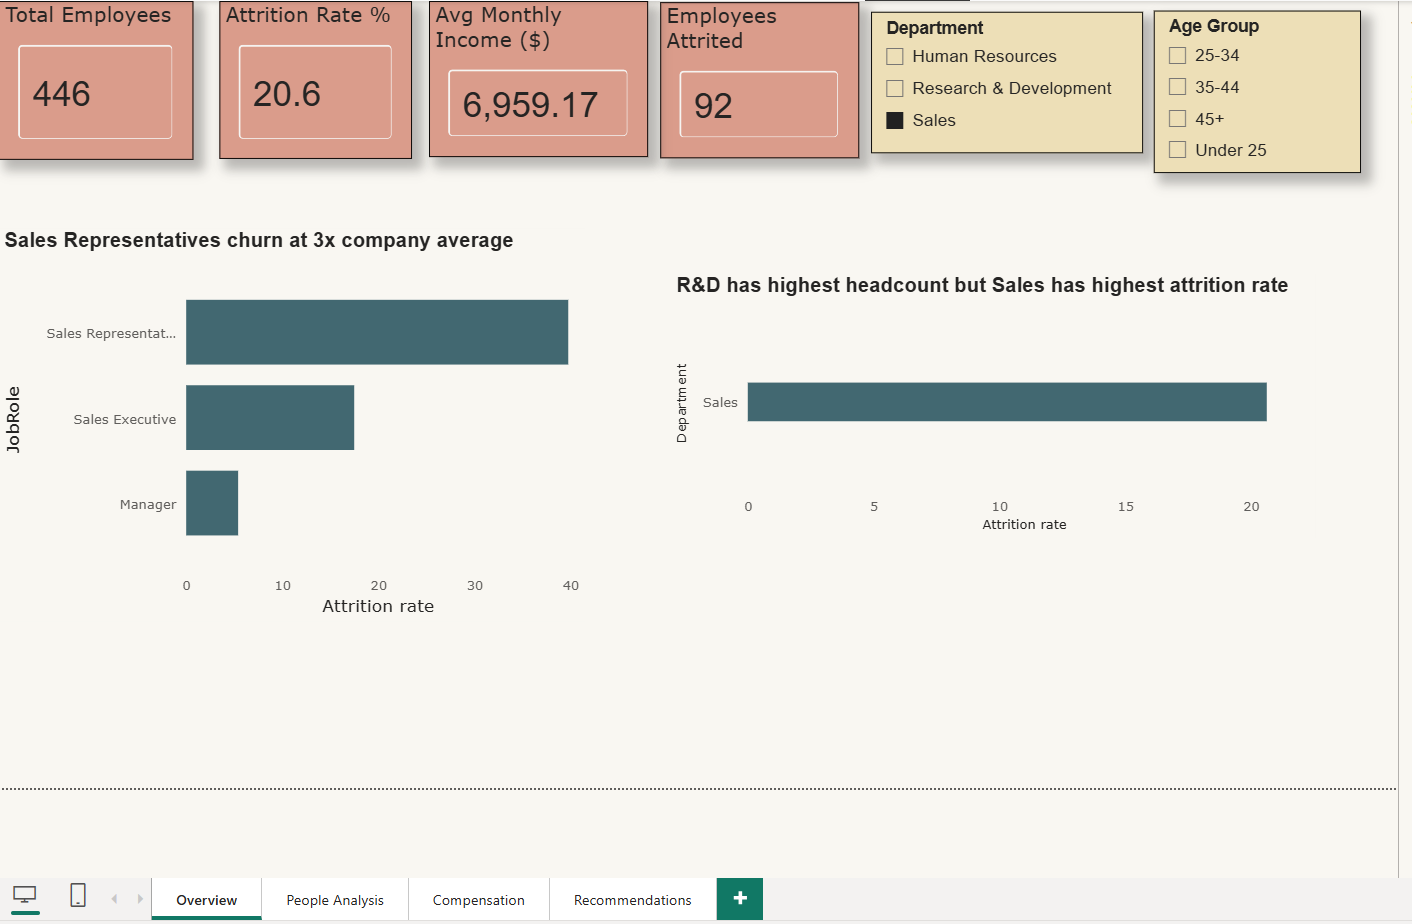

This screenshot's page, from the dashboard's own definition file:
{"tool":"powerbi","page":{"name":"Overview","canvas":[1280,720],"ordinal":0},"visuals":[{"type":"cardVisual","title":"Employees Attrited","fields":{"Data":["_Measures.AttritedEmployees"]},"box":[604.8,1.1,181.9,142.4],"z":0},{"type":"cardVisual","title":"Total Employees","fields":{"Data":["_Measures.TotalEmployees"]},"box":[0,0,177.4,144.9],"z":1000},{"type":"cardVisual","title":"Attrition Rate %","fields":{"Data":["_Measures.ChurnRate"]},"box":[201.6,0,176.4,144.6],"z":2000},{"type":"clusteredBarChart","title":"R&D has highest headcount but Sales has highest attrition rate","fields":{"Category":["Hr_Analytics.Department"],"Y":["_Measures.ChurnRate"]},"box":[614.6,249.8,589.4,241],"z":3000},{"type":"cardVisual","title":"Avg Monthly Income ($)","fields":{"Data":["_Measures.AvgMonthlyIncome"]},"box":[393.3,0,200.5,142.4],"z":4000},{"type":"barChart","title":"Sales Representatives churn at 3x company average","fields":{"Category":["Hr_Analytics.JobRole"],"Y":["_Measures.ChurnRate"]},"box":[0,208.2,535.8,359.4],"z":5000},{"type":"slicer","fields":{"Values":["Hr_Analytics.Department"]},"box":[797.6,9.7,248.7,129.3],"z":6000},{"type":"slicer","fields":{"Values":["Hr_Analytics.AgeGroup"]},"box":[1056.2,8.8,189.5,149],"z":7000}]}

Visuals, with their boxes on the page's 1280x720 design canvas (x1, y1, x2, y2). These are canvas units, not pixel positions in the 1412x924 screenshot, which may show the page scaled, cropped or inside an application window:
"Employees Attrited" cardVisual: bbox=[605, 1, 787, 144]
"Total Employees" cardVisual: bbox=[0, 0, 177, 145]
"Attrition Rate %" cardVisual: bbox=[202, 0, 378, 145]
"R&D has highest headcount but Sales has highest attrition rate" clusteredBarChart: bbox=[615, 250, 1204, 491]
"Avg Monthly Income ($)" cardVisual: bbox=[393, 0, 594, 142]
"Sales Representatives churn at 3x company average" barChart: bbox=[0, 208, 536, 568]
slicer - Hr_Analytics.Department: bbox=[798, 10, 1046, 139]
slicer - Hr_Analytics.AgeGroup: bbox=[1056, 9, 1246, 158]
